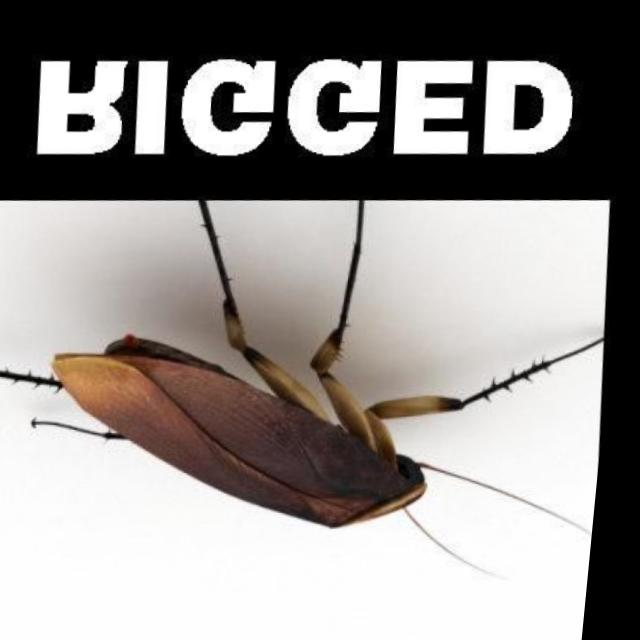Cockroach: (0, 176, 627, 602)
